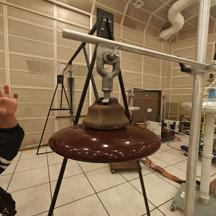insulator: (42, 92, 170, 172)
